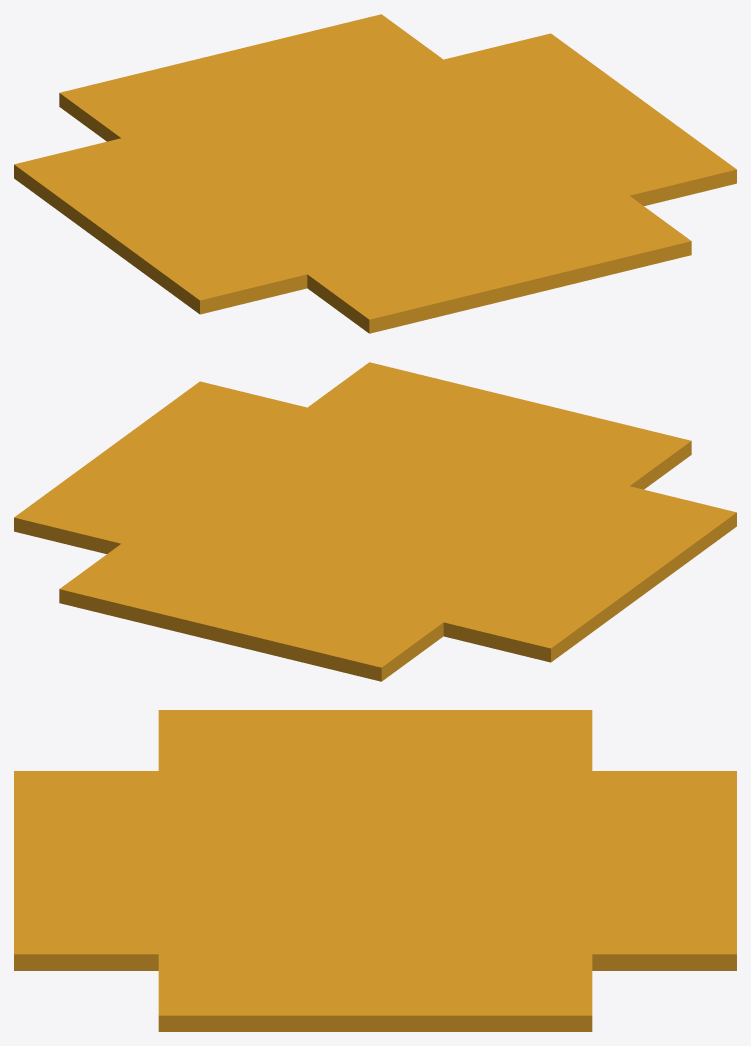
File: SM_Road_XJunction.fbx
The picture shows the model from 3 angles, top to bottom: view 1: azimuth 30°, elevation 25°; view 2: azimuth 150°, elevation 25°; view 3: azimuth 270°, elevation 25°; orthographic projection. The views are drawn at different scales.
Visible parts, largest first — view 1: SM_Road_XJunction; view 2: SM_Road_XJunction; view 3: SM_Road_XJunction.
Part boxes in pixels (box(x1,y1,x2,y2)): SM_Road_XJunction: box(14, 14, 736, 333); SM_Road_XJunction: box(14, 362, 736, 681); SM_Road_XJunction: box(14, 710, 736, 1031).
Size of the model in its own units: 200 by 200 by 5.
